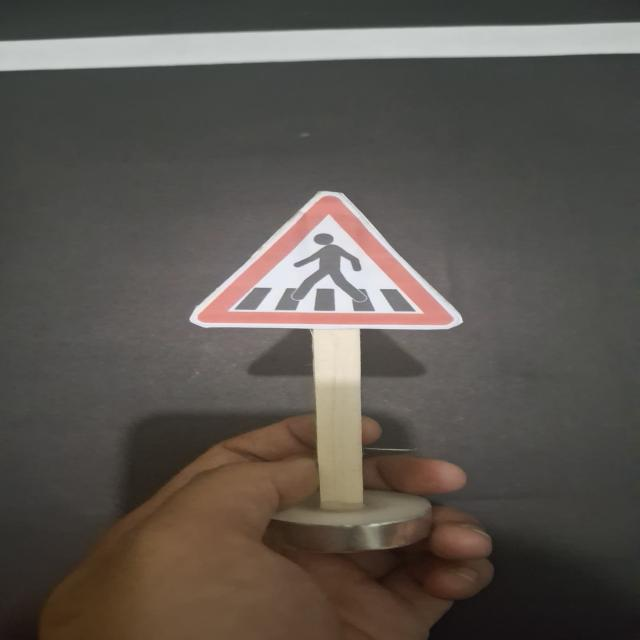Rambu Penyebrangan: (192, 191, 456, 328)
